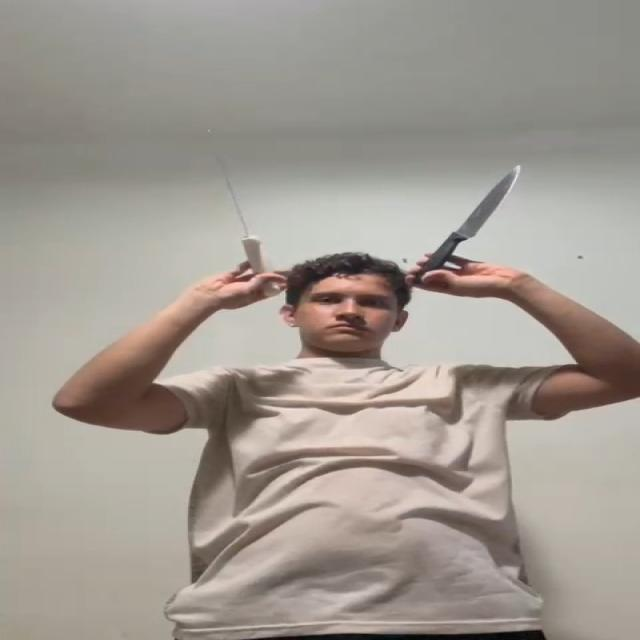knife: (457, 164, 523, 239)
